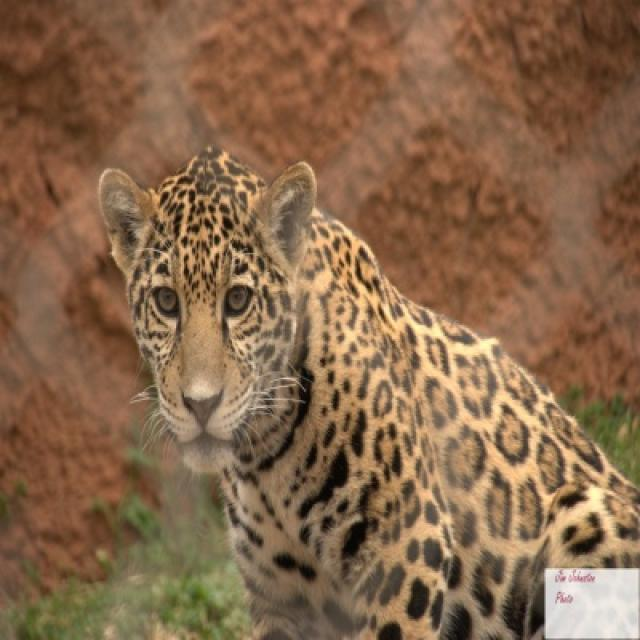Jaguar: (98, 146, 638, 638)
